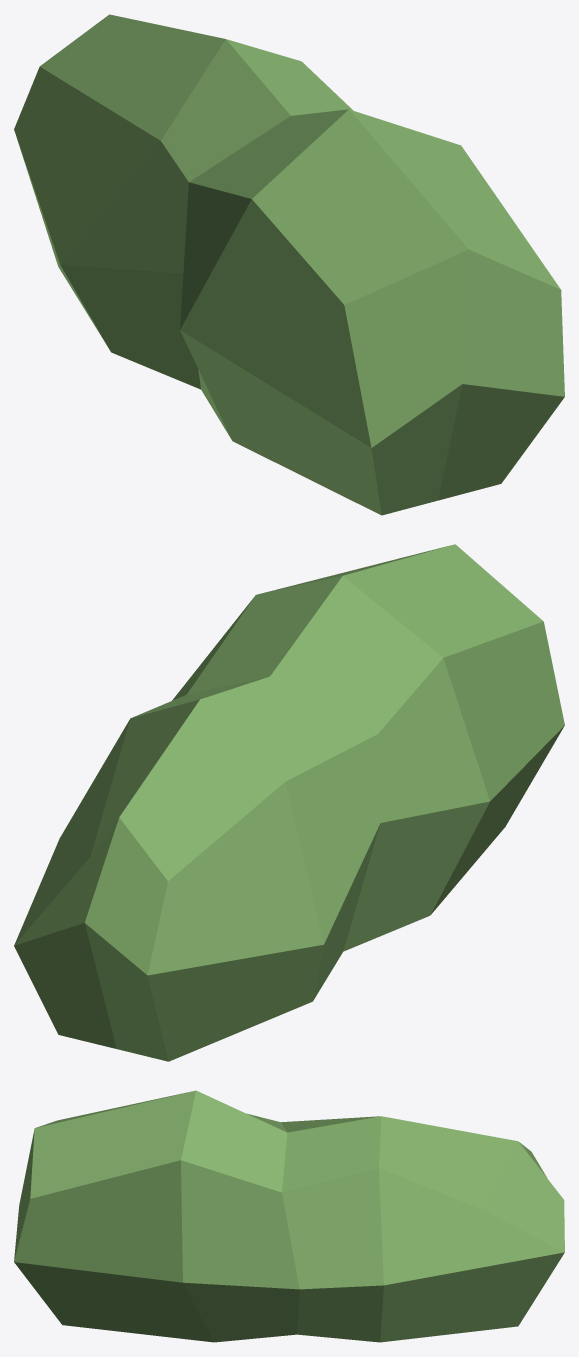
File: bush.fbx
The picture shows the model from 3 angles, top to bottom: view 1: azimuth 30°, elevation 25°; view 2: azimuth 150°, elevation 25°; view 3: azimuth 270°, elevation 25°; orthographic projection. The views are drawn at different scales.
Parts seen in each view (by area): view 1: Cube; view 2: Cube; view 3: Cube.
Part boxes in pixels (x1,y1,x2,y2): Cube: (14, 14, 564, 515); Cube: (14, 544, 564, 1061); Cube: (14, 1090, 564, 1342).
Bounding box in the file's own units: 668 × 319 × 289.
